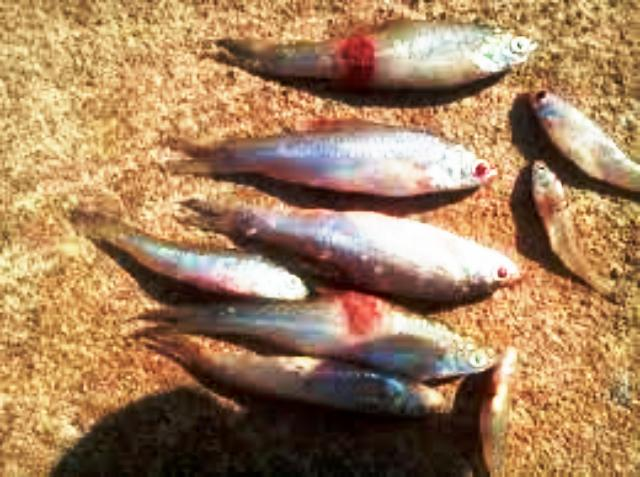Epizootic Ulcerative Syndrome -EUS-: (148, 293, 490, 379), (175, 290, 492, 379), (219, 20, 534, 89), (219, 20, 534, 89)
